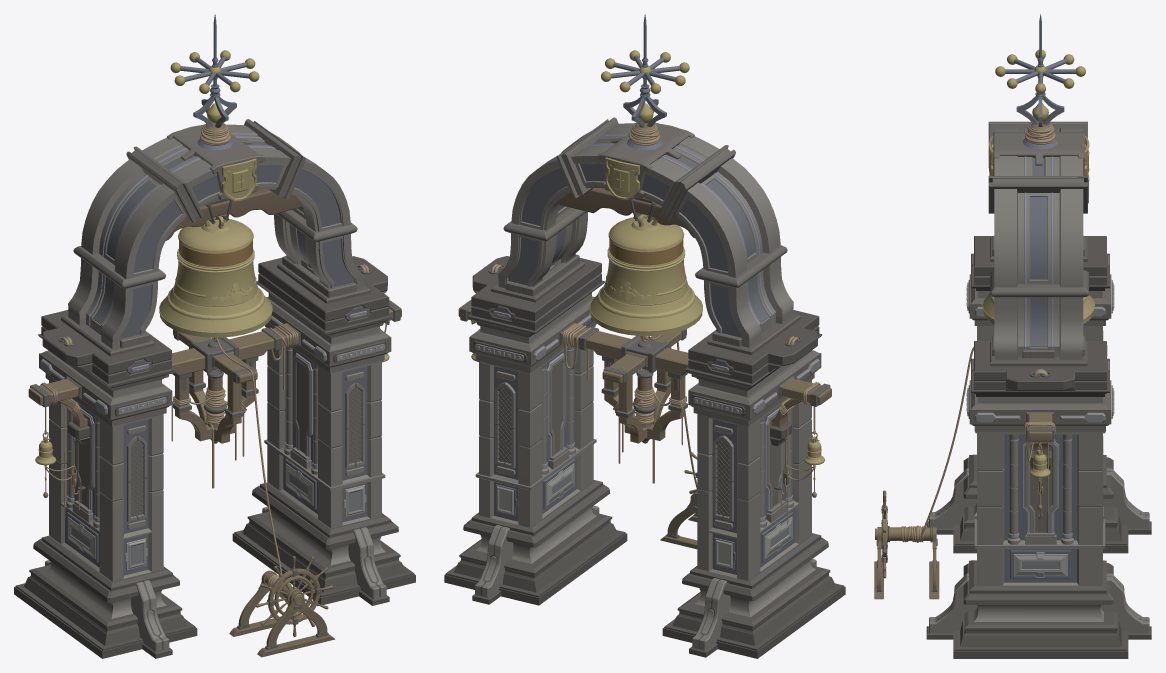
File: Bell (Draft).fbx
3 views of the same model, side by side, from view 1: azimuth 30°, elevation 25°; view 2: azimuth 150°, elevation 25°; view 3: azimuth 270°, elevation 25° (orthographic).
Visible parts, largest first — view 1: pCube327, pCube258, pCube32, pCube182, polySurface37, polySurface157, pCube159, polySurface165, pCube300, pCube263, pCylinder108, pCube23 (+33 smaller); view 2: pCube327, pCube258, pCube32, pCube182, polySurface37, polySurface157, pCube159, polySurface165, pCube300, pCube263, pCube23, pCylinder108 (+30 smaller); view 3: pCube159, pCube32, polySurface37, pCylinder46, pCube23, pCube300, polySurface157, pCube22, polySurface156, polySurface72, pCube25, polySurface1 (+18 smaller).
Boxes of the visible parts, <box> form: pCube327: <box>68,138,219,349</box>; pCube258: <box>49,381,163,581</box>; pCube32: <box>267,346,381,528</box>; pCube182: <box>159,219,272,337</box>; polySurface37: <box>256,256,392,373</box>; polySurface157: <box>38,310,175,426</box>; pCube159: <box>226,124,363,289</box>; polySurface165: <box>28,300,401,443</box>; pCube300: <box>73,119,357,288</box>; pCube263: <box>14,577,197,658</box>; pCylinder108: <box>284,347,318,474</box>; pCube23: <box>232,523,415,604</box>; pCube327: <box>641,136,793,347</box>; pCube258: <box>697,380,811,580</box>; pCube32: <box>479,345,593,527</box>; pCube182: <box>589,217,702,335</box>; polySurface37: <box>468,256,605,372</box>; polySurface157: <box>685,310,822,426</box>; pCube159: <box>498,123,636,288</box>; polySurface165: <box>458,300,831,443</box>; pCube300: <box>503,117,787,287</box>; pCube263: <box>662,576,845,658</box>; pCube23: <box>444,523,627,605</box>; pCylinder108: <box>541,346,575,474</box>; pCube159: <box>994,156,1083,359</box>; pCube32: <box>977,433,1102,585</box>; polySurface37: <box>969,341,1111,431</box>; pCylinder46: <box>1007,434,1073,544</box>; pCube23: <box>953,620,1128,658</box>; pCube300: <box>988,121,1088,297</box>; polySurface157: <box>969,236,1111,325</box>; pCube22: <box>964,611,1117,635</box>; polySurface156: <box>929,573,1149,633</box>; polySurface72: <box>929,468,1149,528</box>; pCube25: <box>973,605,1103,621</box>; polySurface1: <box>963,563,1113,604</box>.
Bounding box in the file's own units: 874 × 1323 × 584.
